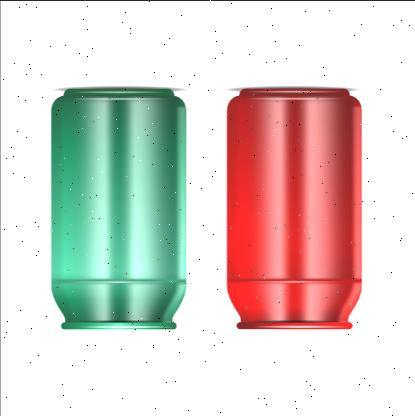Can: (50, 88, 186, 328), (226, 88, 361, 328)
